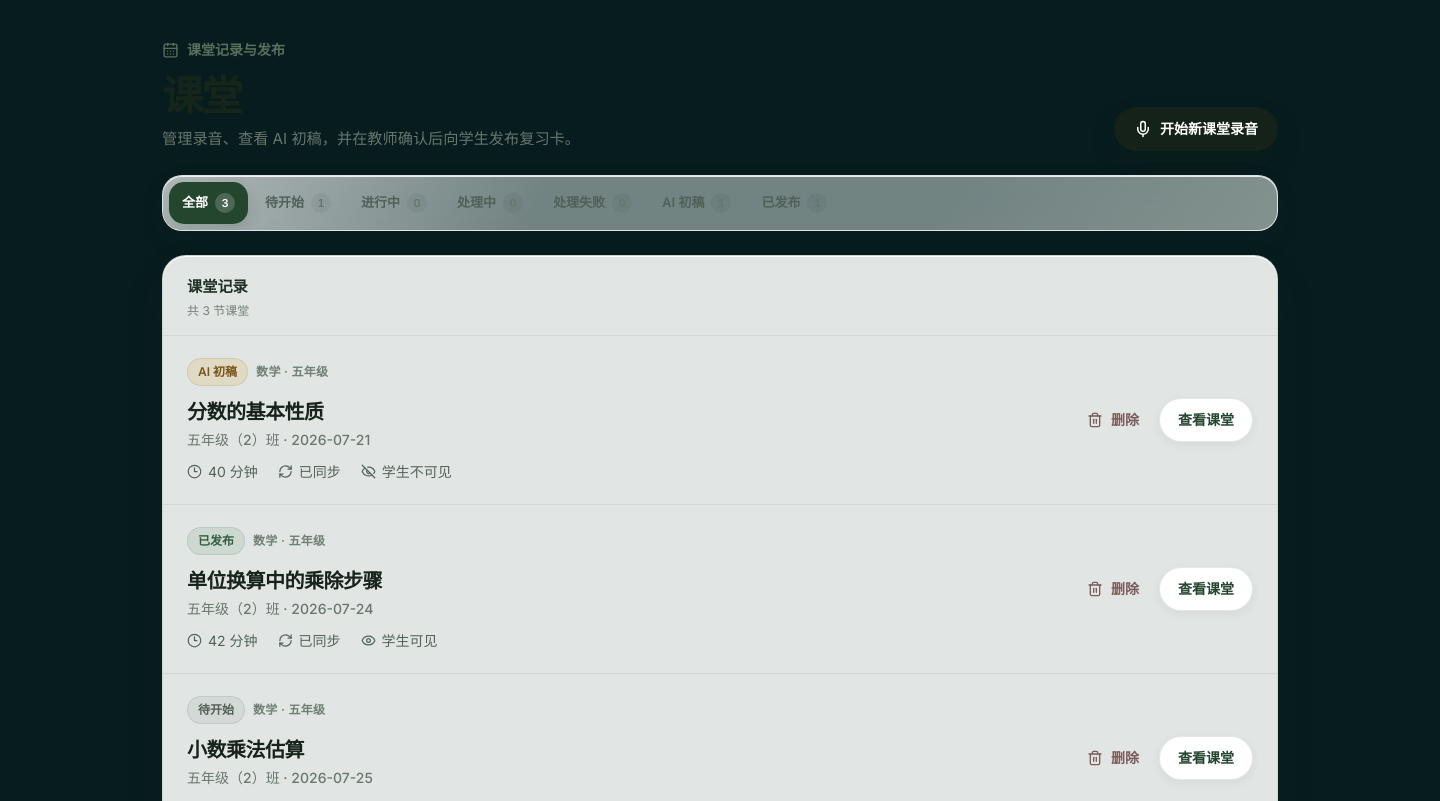
ClassroomPage › keeps a recording out of draft-ready when local AI analysis fails
Click the button "开始新课堂录音" at (1196,129), box x1=1114 y1=107 x2=1278 y2=151
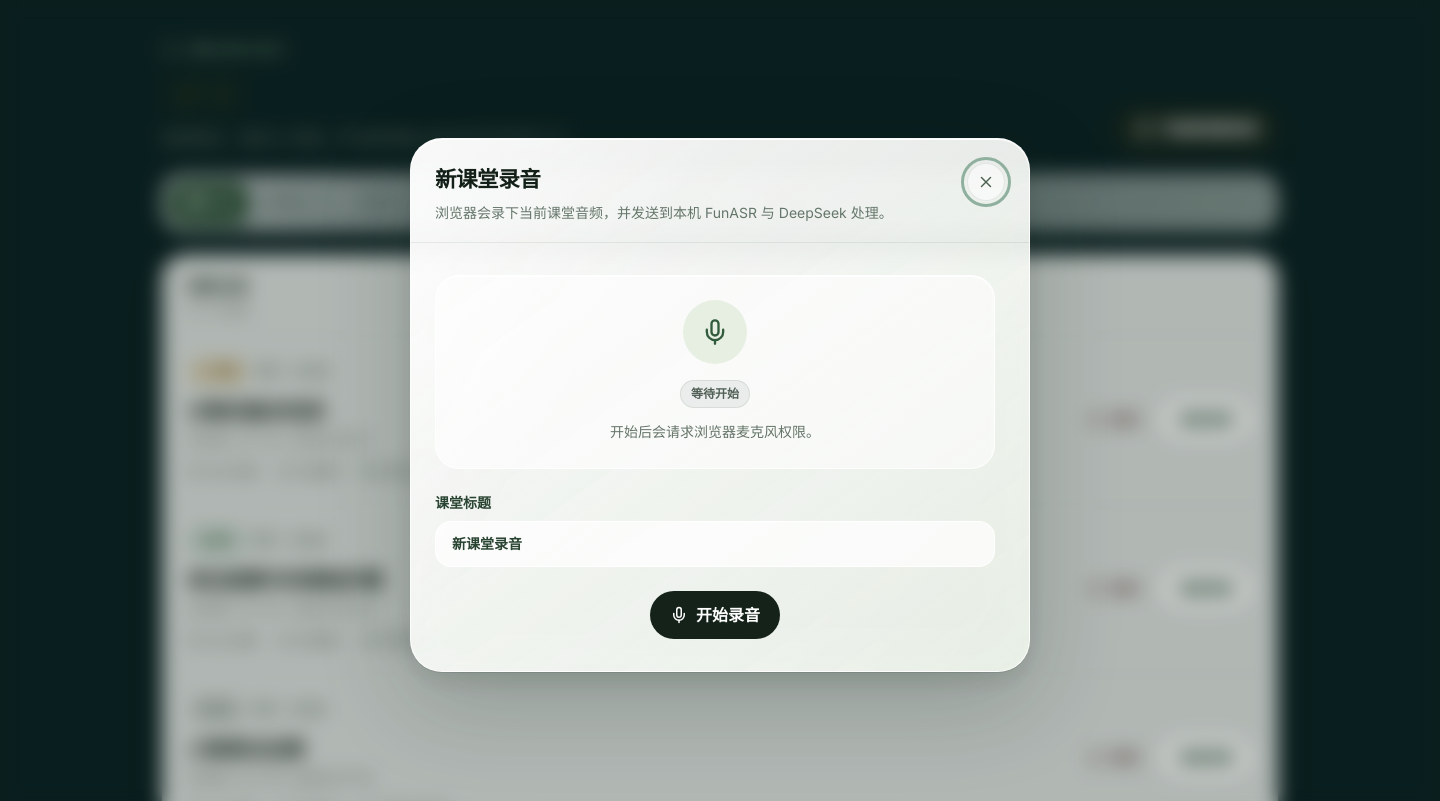
Click the button "开始录音" at (715,616), box x1=650 y1=592 x2=780 y2=640
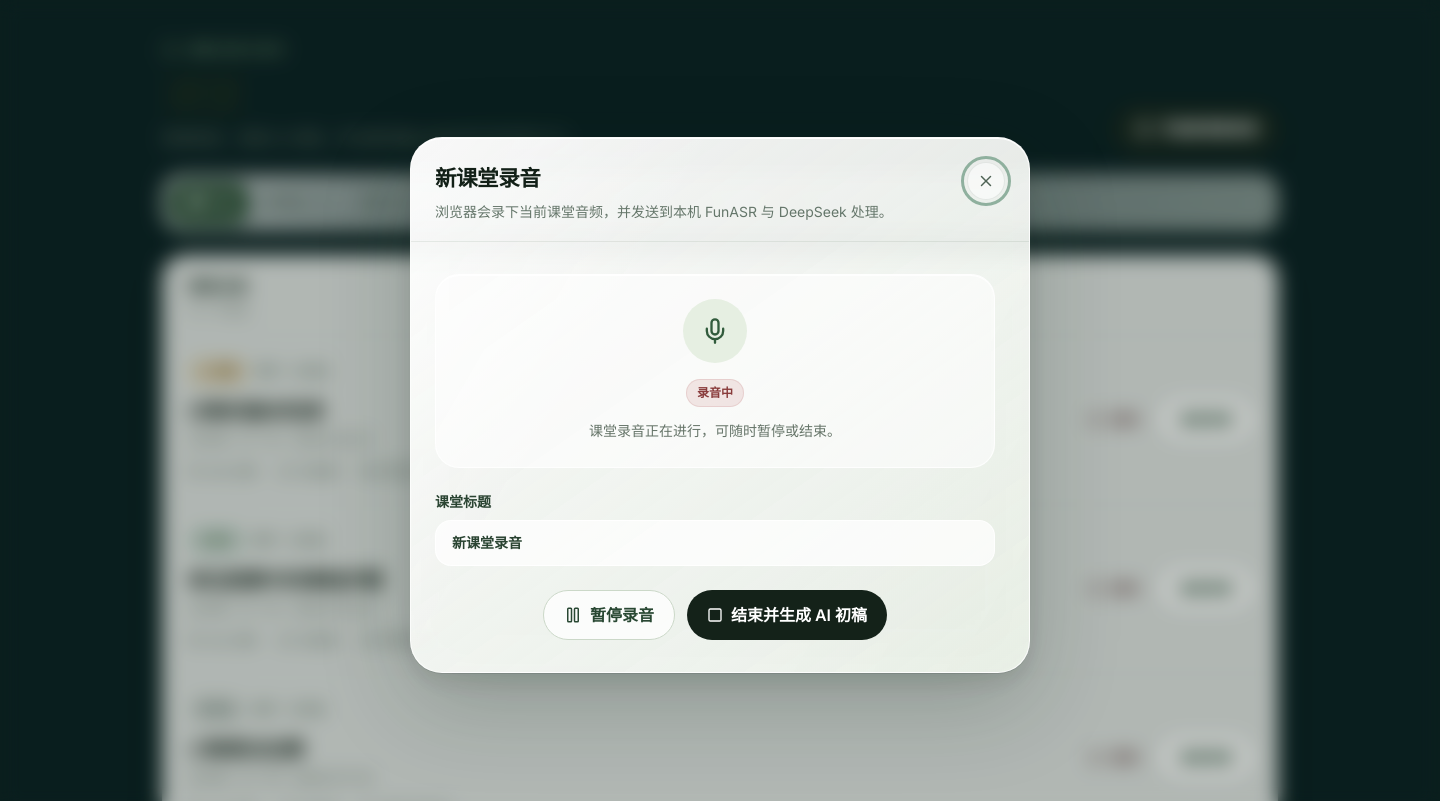
expect the text "录音中" is shown: met, box x1=686 y1=380 x2=744 y2=408
Click the button "结束并生成 AI 初稿" at (787,616), box x1=687 y1=590 x2=887 y2=640
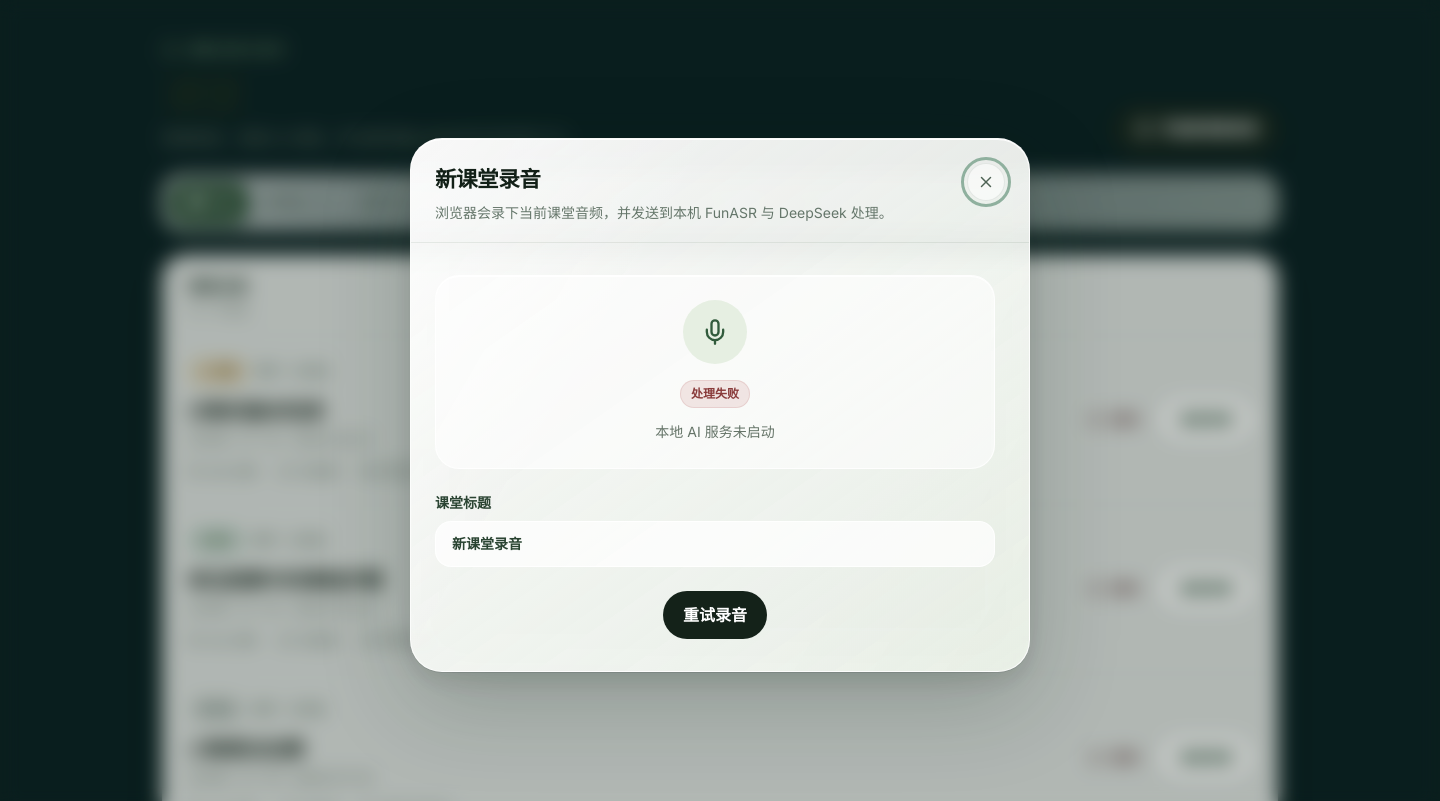
expect the text "处理失败" is shown: met, box x1=680 y1=380 x2=750 y2=408
expect the text "本地 AI 服务未启动" is shown: met, box x1=655 y1=424 x2=775 y2=440
expect the button "重试录音" is shown: met, box x1=663 y1=592 x2=767 y2=640
